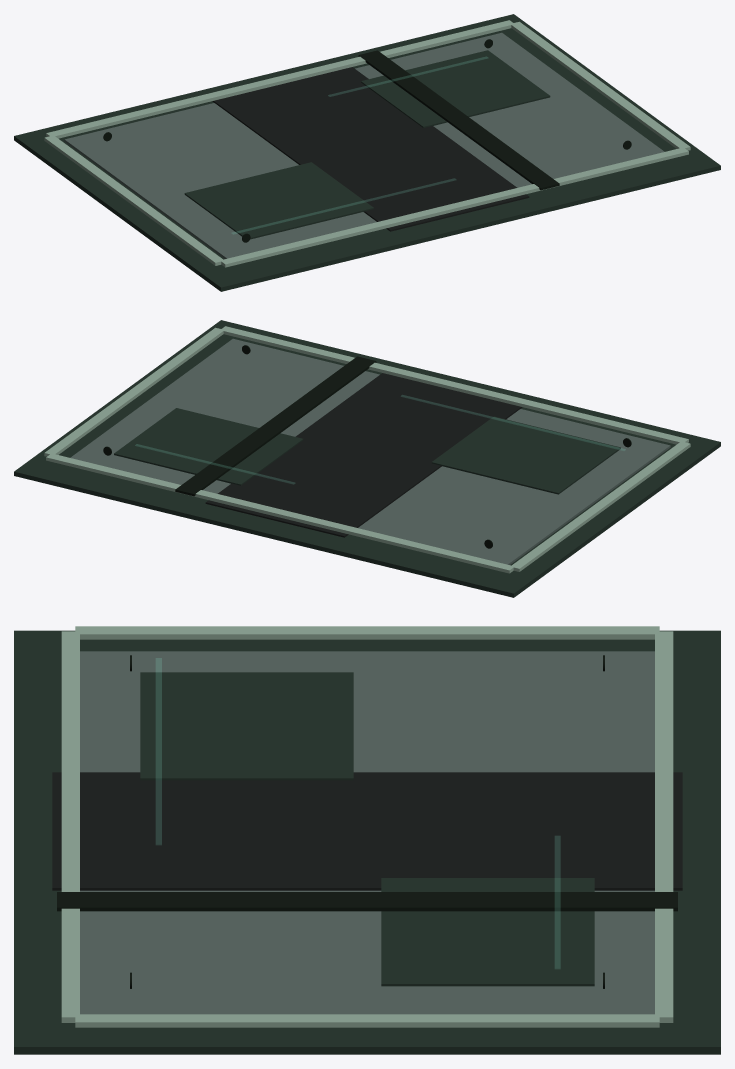
File: hp_room_floor_tile_residential.glb
3 renders of one model, top to bottom at view 1: azimuth 30°, elevation 25°; view 2: azimuth 150°, elevation 25°; view 3: azimuth 270°, elevation 25°, orthographic. The views are drawn at different scales.
Parts seen in each view (by area): view 1: residential_floor_slab_base, residential_floor_cyan_line_a; view 2: residential_floor_slab_base, residential_floor_cyan_line_a; view 3: residential_floor_slab_base, residential_floor_cyan_line_a.
Part boxes in pixels (x1,y1,x2,y2): residential_floor_slab_base: (14, 14, 720, 291); residential_floor_cyan_line_a: (232, 57, 487, 233); residential_floor_slab_base: (14, 320, 720, 597); residential_floor_cyan_line_a: (135, 395, 625, 483); residential_floor_slab_base: (14, 626, 720, 1054); residential_floor_cyan_line_a: (156, 658, 559, 968).
Size of the model in its own units: 4.25 by 0.1505 by 3.05.
2 materials, 2 textured.
